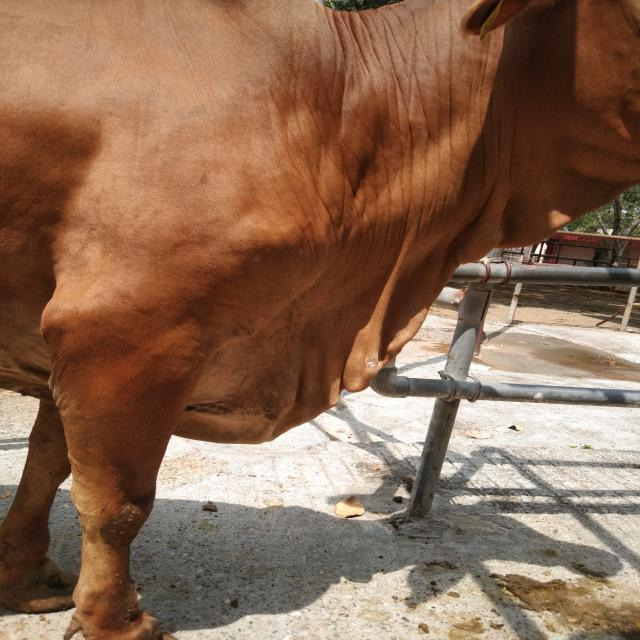Hoof: (0, 557, 78, 614), (63, 609, 177, 639)
